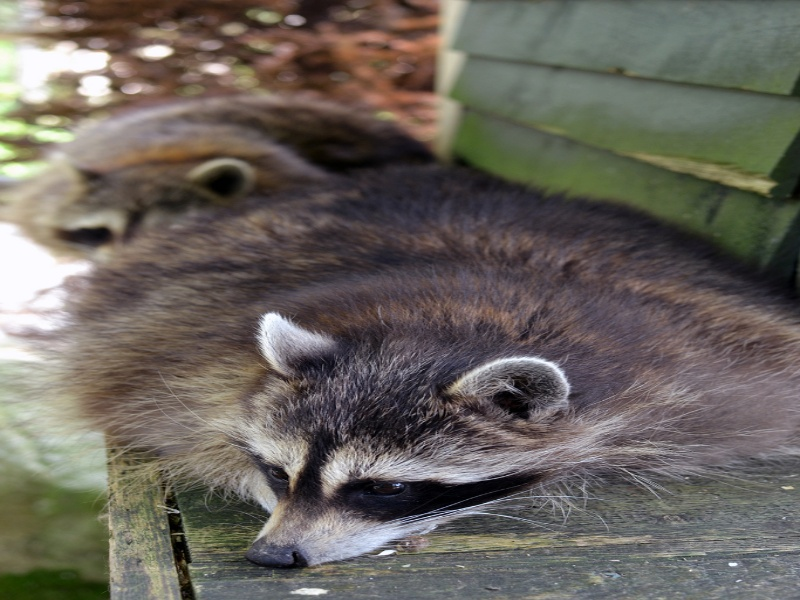raccoon: (54, 210, 789, 580), (23, 99, 315, 255)
